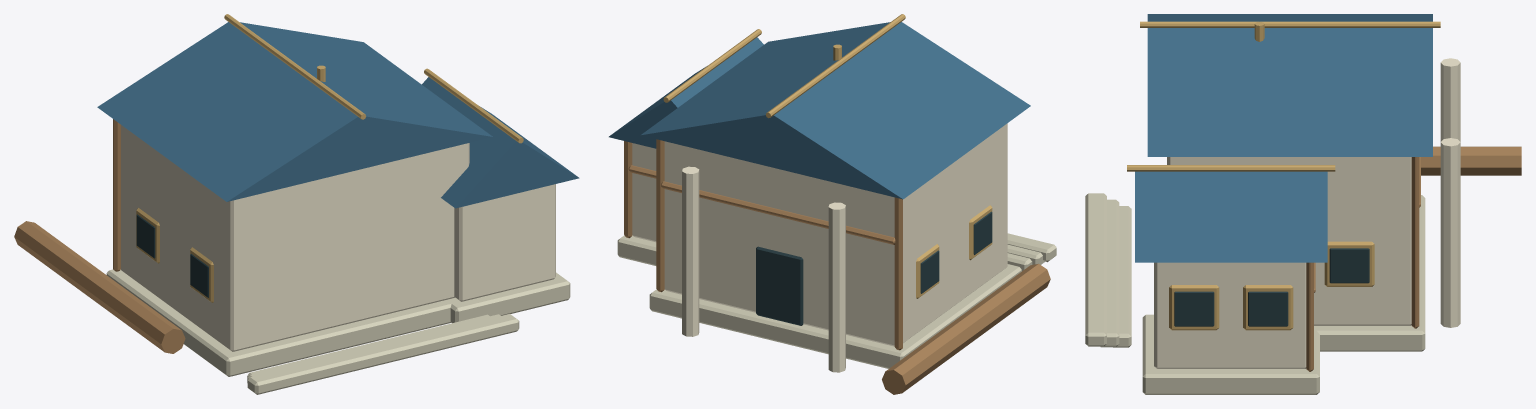
File: level_21.glb
The picture shows the model from 3 angles, left to right: view 1: azimuth 30°, elevation 25°; view 2: azimuth 150°, elevation 25°; view 3: azimuth 270°, elevation 25°; orthographic projection. The views are drawn at different scales.
Visible parts, largest first — view 1: timber_yard — level 21; view 2: timber_yard — level 21; view 3: timber_yard — level 21.
Part boxes in pixels (x1,y1,x2,y2): timber_yard — level 21: (14,14,579,394); timber_yard — level 21: (609,14,1056,394); timber_yard — level 21: (1085,14,1521,394).
Bounding box in the file's own units: 6.43 × 3.82 × 5.66.
